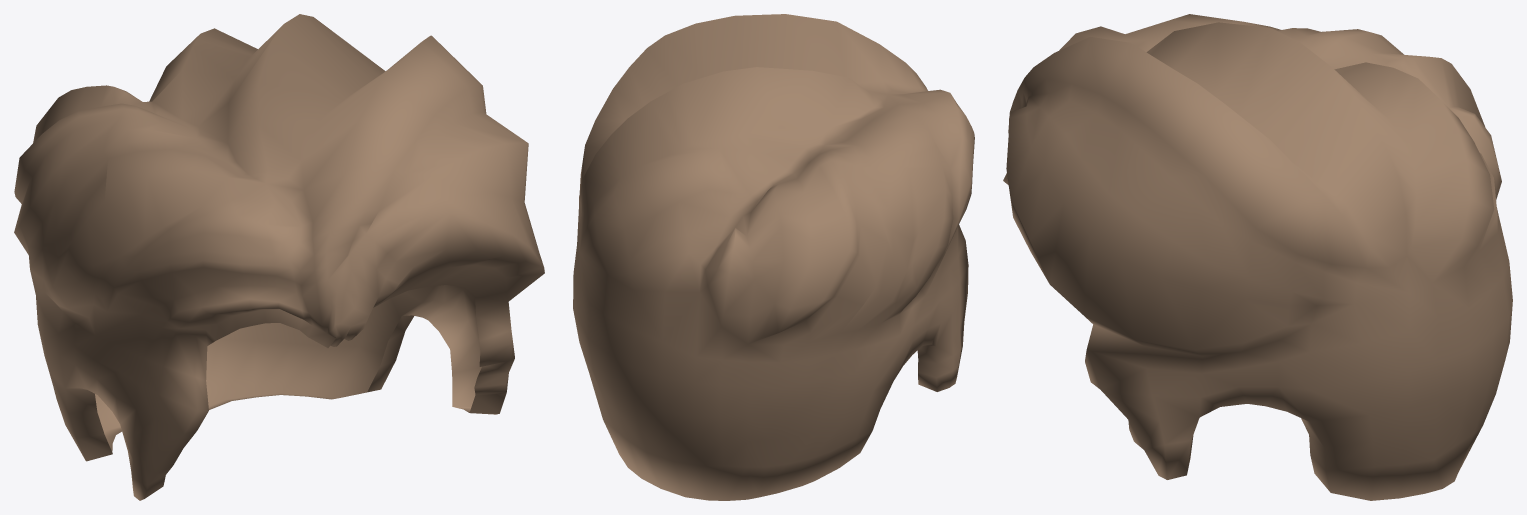
Rendered from quaternius_hair_simpleparted.glb.
3 views of the same model, side by side, from view 1: azimuth 30°, elevation 25°; view 2: azimuth 150°, elevation 25°; view 3: azimuth 270°, elevation 25° (orthographic). The views are drawn at different scales.
Visible parts, largest first — view 1: Hair_SimpleParted; view 2: Hair_SimpleParted; view 3: Hair_SimpleParted.
Part boxes in pixels (x1,y1,x2,y2): Hair_SimpleParted: (14, 14, 544, 500); Hair_SimpleParted: (573, 14, 974, 500); Hair_SimpleParted: (1003, 14, 1512, 500).
Bounding box in the file's own units: 0.1754 × 0.1792 × 0.1869.
